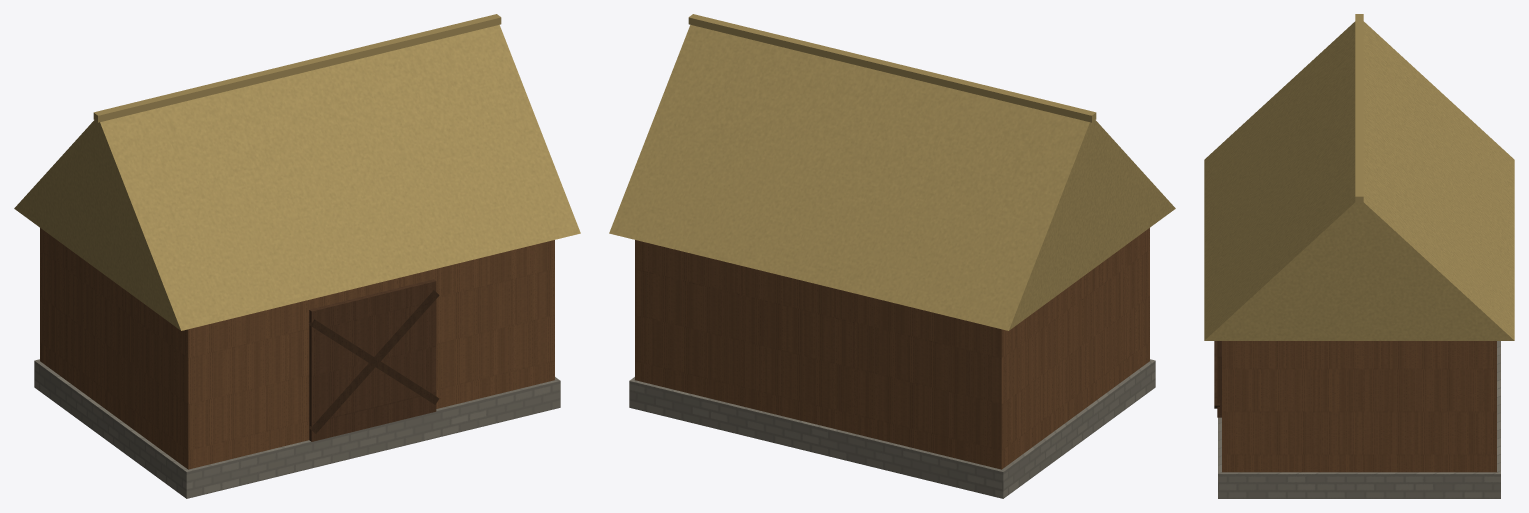
Rendered from barn.glb.
The picture shows the model from 3 angles, left to right: view 1: azimuth 30°, elevation 25°; view 2: azimuth 150°, elevation 25°; view 3: azimuth 270°, elevation 25°; orthographic projection. The views are drawn at different scales.
Parts seen in each view (by area): view 1: barn; view 2: barn; view 3: barn.
Boxes of the visible parts, <box> form: barn: <box>14,14,580,498</box>; barn: <box>609,14,1175,498</box>; barn: <box>1204,14,1514,498</box>.
Size of the model in its own units: 11 by 8.67 by 7.9.
Materials: 1 (1 with a texture image).
